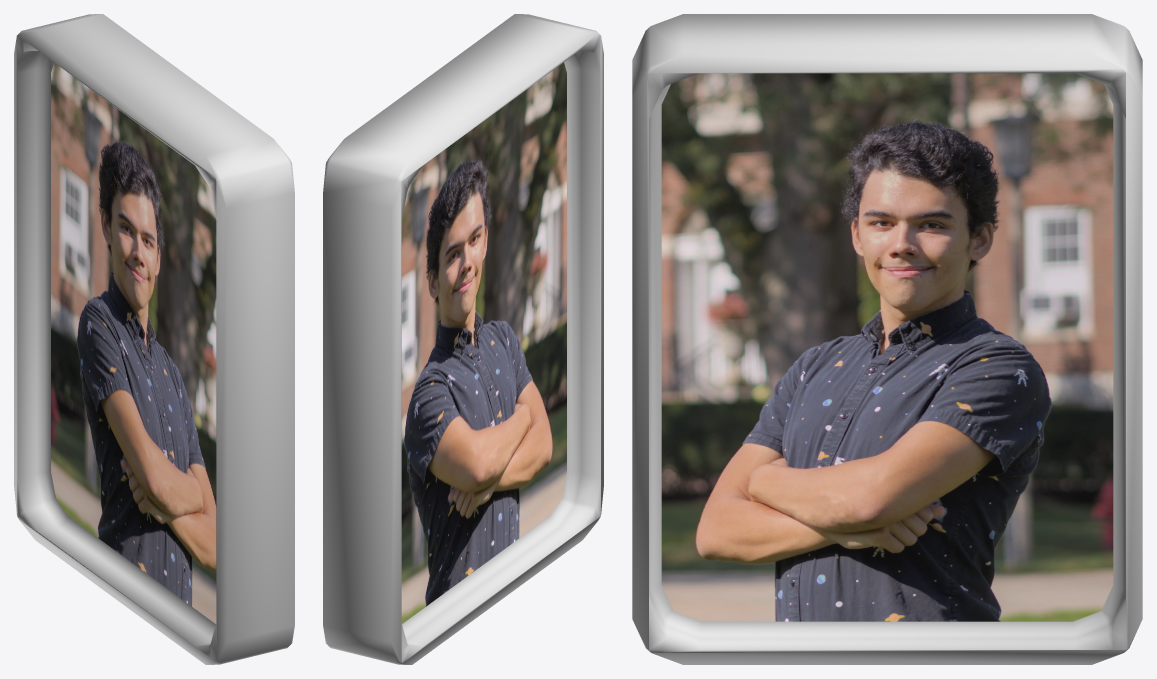
File: MyFace.glb
The picture shows the model from 3 angles, left to right: view 1: azimuth 30°, elevation 25°; view 2: azimuth 150°, elevation 25°; view 3: azimuth 270°, elevation 25°; orthographic projection. The views are drawn at different scales.
Visible parts, largest first — view 1: summerheat.001; view 2: summerheat.001; view 3: summerheat.001.
Part boxes in pixels (bbox=[...]): summerheat.001: bbox=[14, 14, 294, 664]; summerheat.001: bbox=[323, 14, 603, 664]; summerheat.001: bbox=[632, 14, 1142, 664].
Size of the model in its own units: 0.3083 by 1.99 by 1.5.
2 materials, 1 textured.
